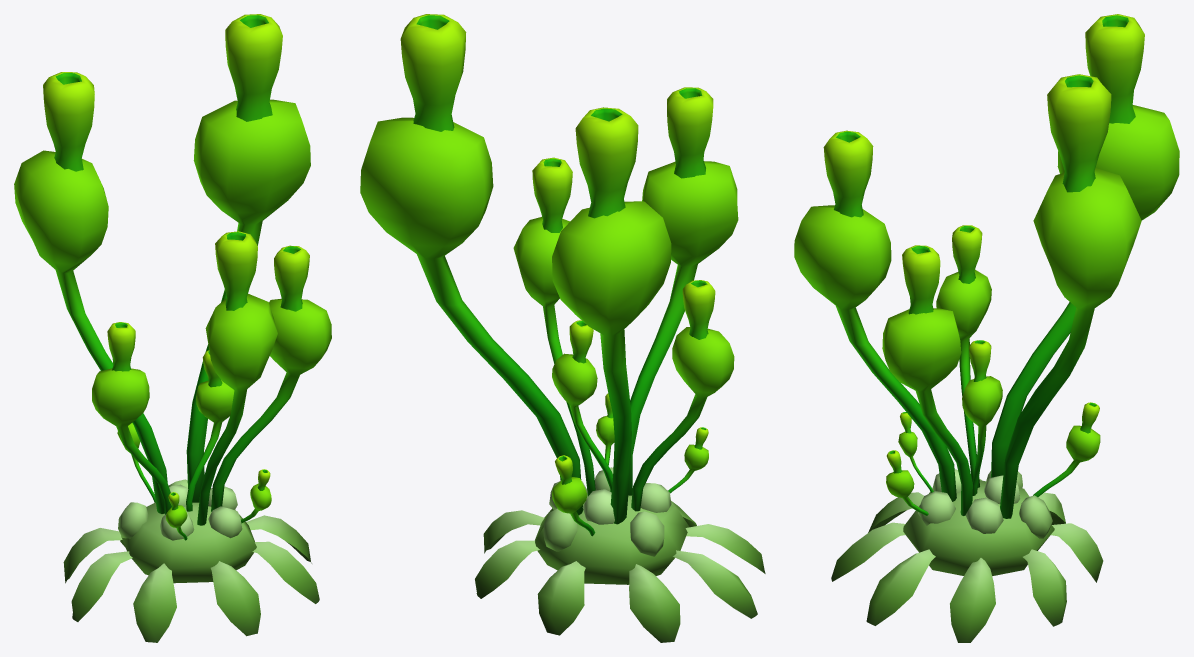
Rendered from wp_noPot_18.fbx.
3 renders of one model, left to right at view 1: azimuth 30°, elevation 25°; view 2: azimuth 150°, elevation 25°; view 3: azimuth 270°, elevation 25°, orthographic. The views are drawn at different scales.
Visible parts, largest first — view 1: w_pl18.003; view 2: w_pl18.003; view 3: w_pl18.003.
Part boxes in pixels (x1,y1,x2,y2): w_pl18.003: (14,14,331,642); w_pl18.003: (360,14,765,642); w_pl18.003: (794,14,1179,642).
Size of the model in its own units: 95.19 by 161 by 100.
